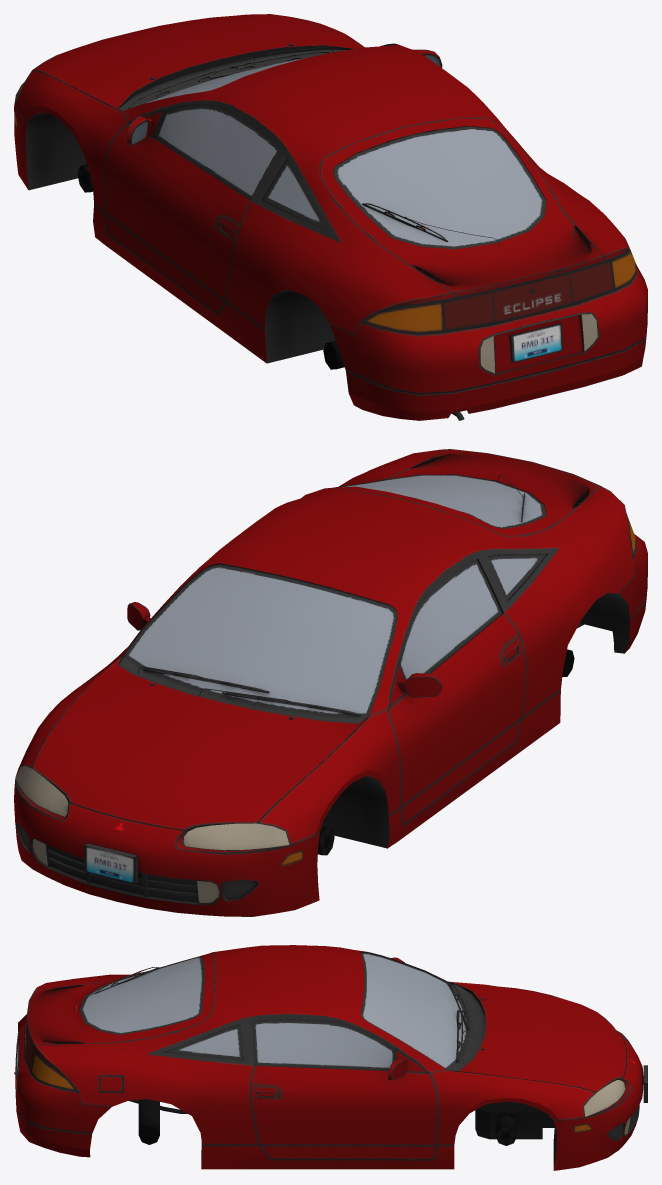
Rendered from eclipse95_rs_body.fbx.
The picture shows the model from 3 angles, top to bottom: view 1: azimuth 30°, elevation 25°; view 2: azimuth 150°, elevation 25°; view 3: azimuth 270°, elevation 25°; orthographic projection. The views are drawn at different scales.
Parts seen in each view (by area): view 1: body_pz; view 2: body_pz; view 3: body_pz.
Part boxes in pixels (bbox=[...]): body_pz: bbox=[14, 14, 647, 420]; body_pz: bbox=[14, 449, 647, 916]; body_pz: bbox=[14, 945, 647, 1170].
Bounding box in the file's own units: 1.85 × 1.14 × 4.41.
